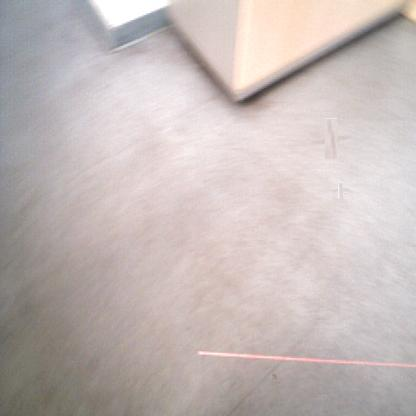mark: (318, 126, 345, 152), (335, 185, 346, 196), (272, 373, 280, 381)
